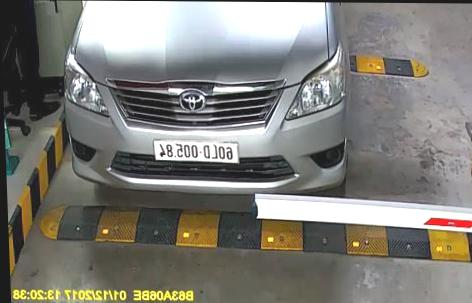License_Plate: (150, 137, 239, 169)
